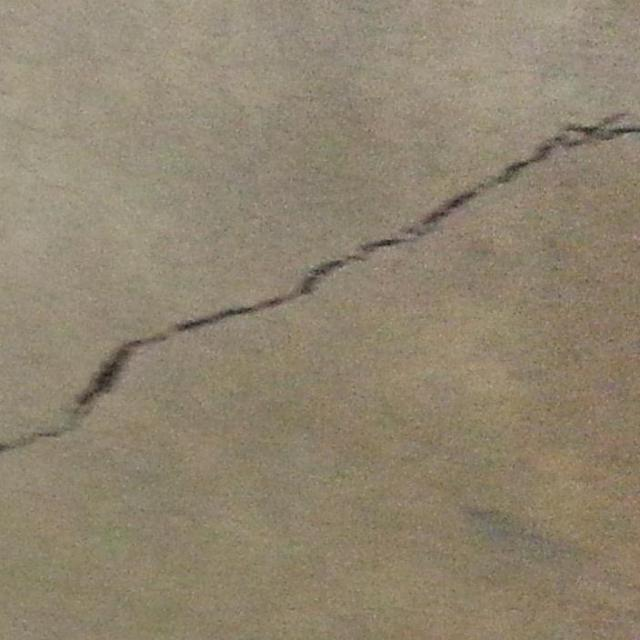diagonal crack: (0, 112, 639, 452)
